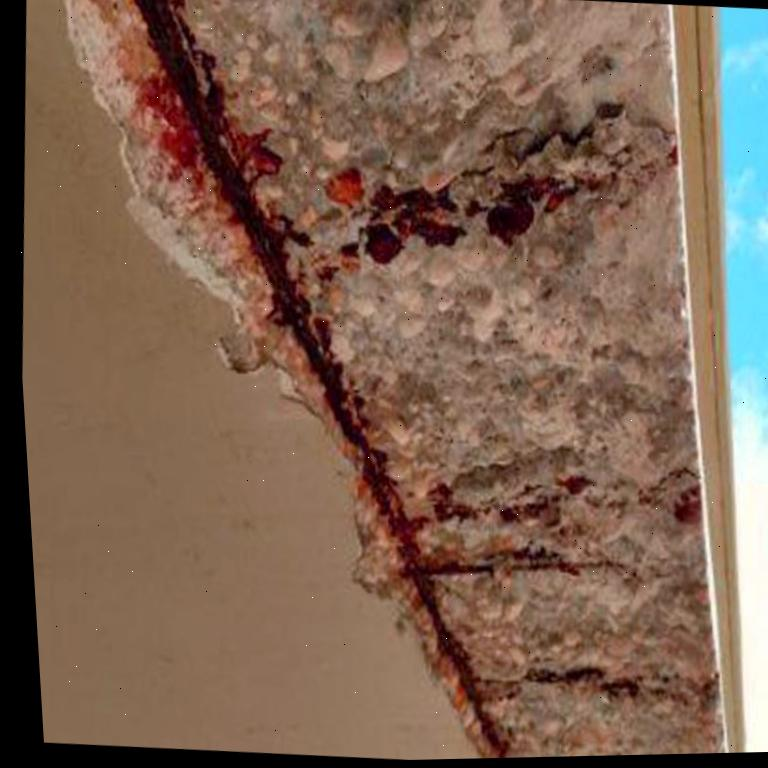exposed_rebar: (132, 0, 506, 758)
spalling: (59, 0, 729, 758)
